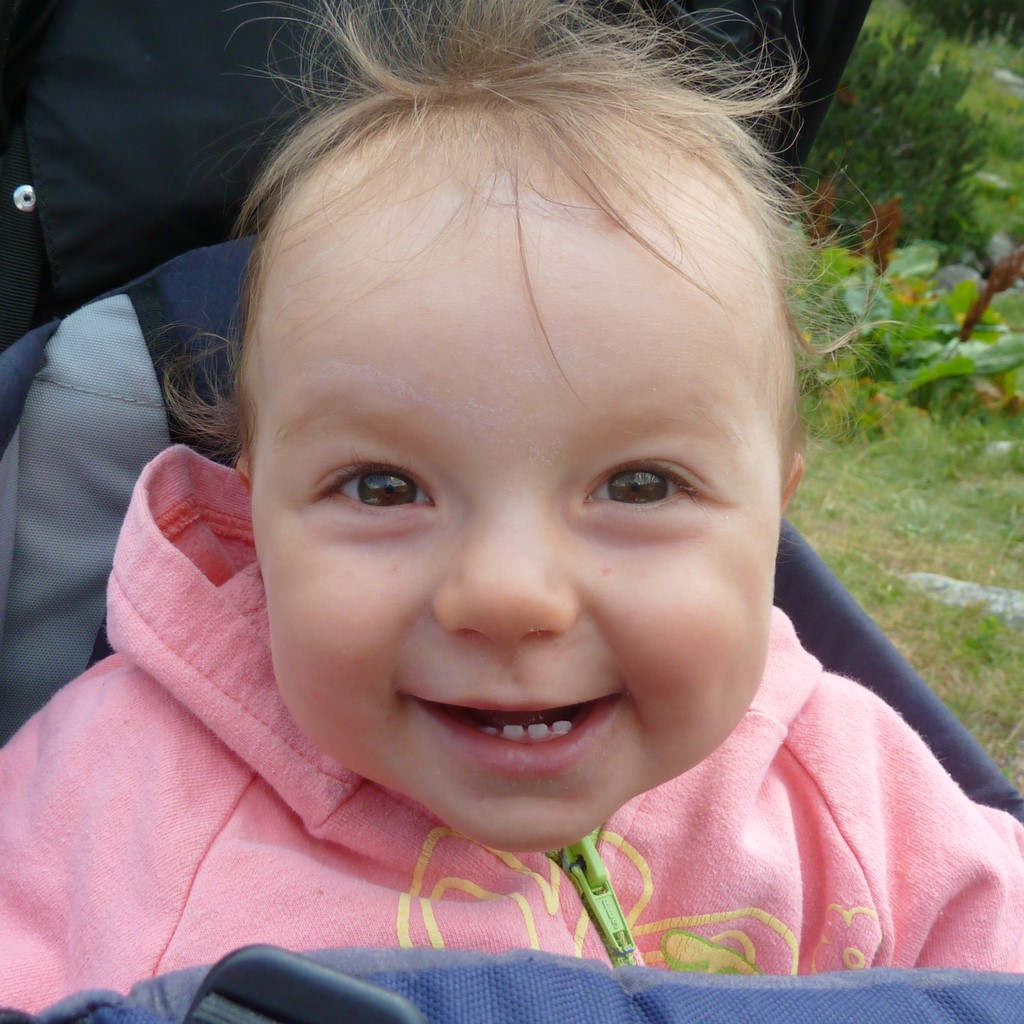sin_mascara: (274, 118, 776, 824)
